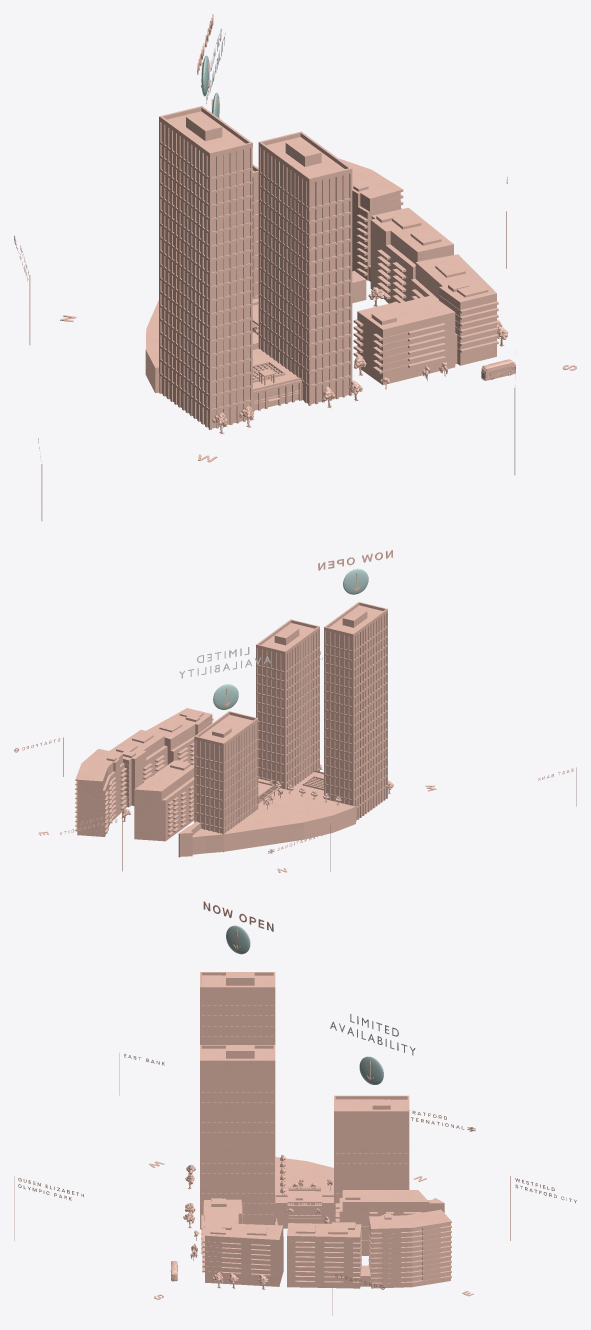
The model's file is CMS24.gltf.
3 renders of one model, top to bottom at view 1: azimuth 30°, elevation 25°; view 2: azimuth 150°, elevation 25°; view 3: azimuth 270°, elevation 25°, orthographic. The views are drawn at different scales.
Parts seen in each view (by area): view 1: Xavier, Bussell, Hows, Sandhu, Bulk, Harrison; view 2: Xavier, Bussell, Harrison, Bulk, Sandhu, Aarons, Hows, Arrow3, Arrow, Open2; view 3: Bussell, Sandhu, Harrison, Hows, Xavier, Bulk, Aarons, Arrow, Arrow3.
Part boxes in pixels (<box>): Xavier: <box>159,106,252,429</box>; Bussell: <box>258,131,352,405</box>; Hows: <box>353,254,498,384</box>; Sandhu: <box>338,158,453,303</box>; Bulk: <box>29,211,576,521</box>; Harrison: <box>252,164,258,299</box>; Xavier: <box>324,602,387,821</box>; Bussell: <box>256,619,319,790</box>; Harrison: <box>178,711,258,857</box>; Bulk: <box>39,737,576,872</box>; Sandhu: <box>75,729,167,836</box>; Aarons: <box>134,760,194,841</box>; Hows: <box>146,708,213,764</box>; Arrow3: <box>343,568,368,594</box>; Arrow: <box>213,684,238,709</box>; Open2: <box>179,647,270,678</box>; Bussell: <box>200,1045,275,1229</box>; Sandhu: <box>287,1209,451,1288</box>; Harrison: <box>334,1095,444,1222</box>; Hows: <box>201,1198,283,1286</box>; Xavier: <box>200,972,275,1044</box>; Bulk: <box>14,1053,510,1315</box>; Aarons: <box>335,1190,429,1255</box>; Arrow: <box>359,1056,383,1084</box>; Arrow3: <box>226,925,250,954</box>.
Size of the model in its own units: 308 by 168 by 313.
Materials: 3 (2 with a texture image).
